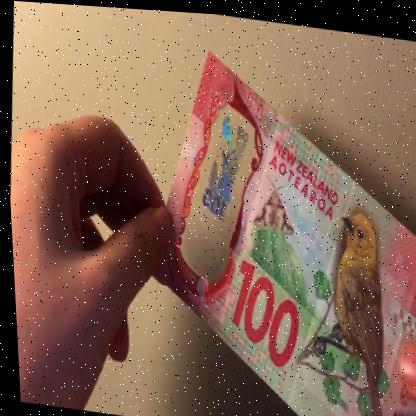100B: (189, 106, 254, 228)
